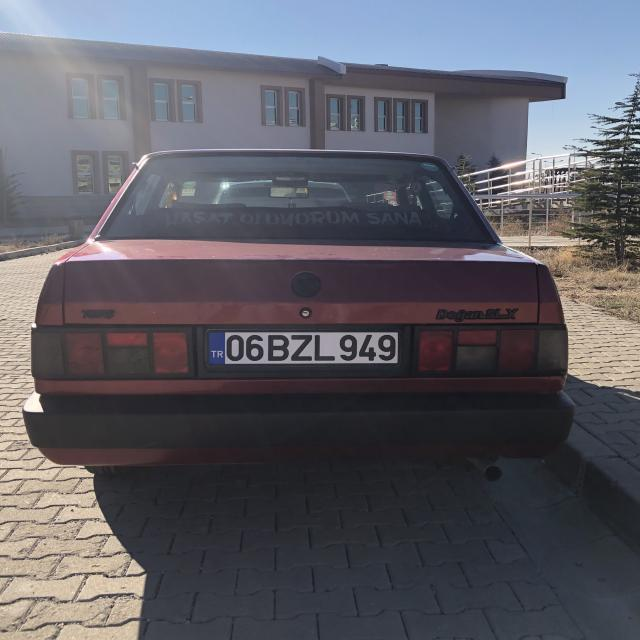license_plate: (208, 330, 400, 366)
